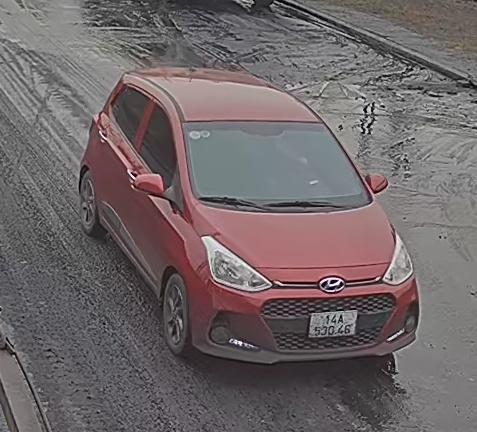vehicle plate: (306, 305, 358, 342)
